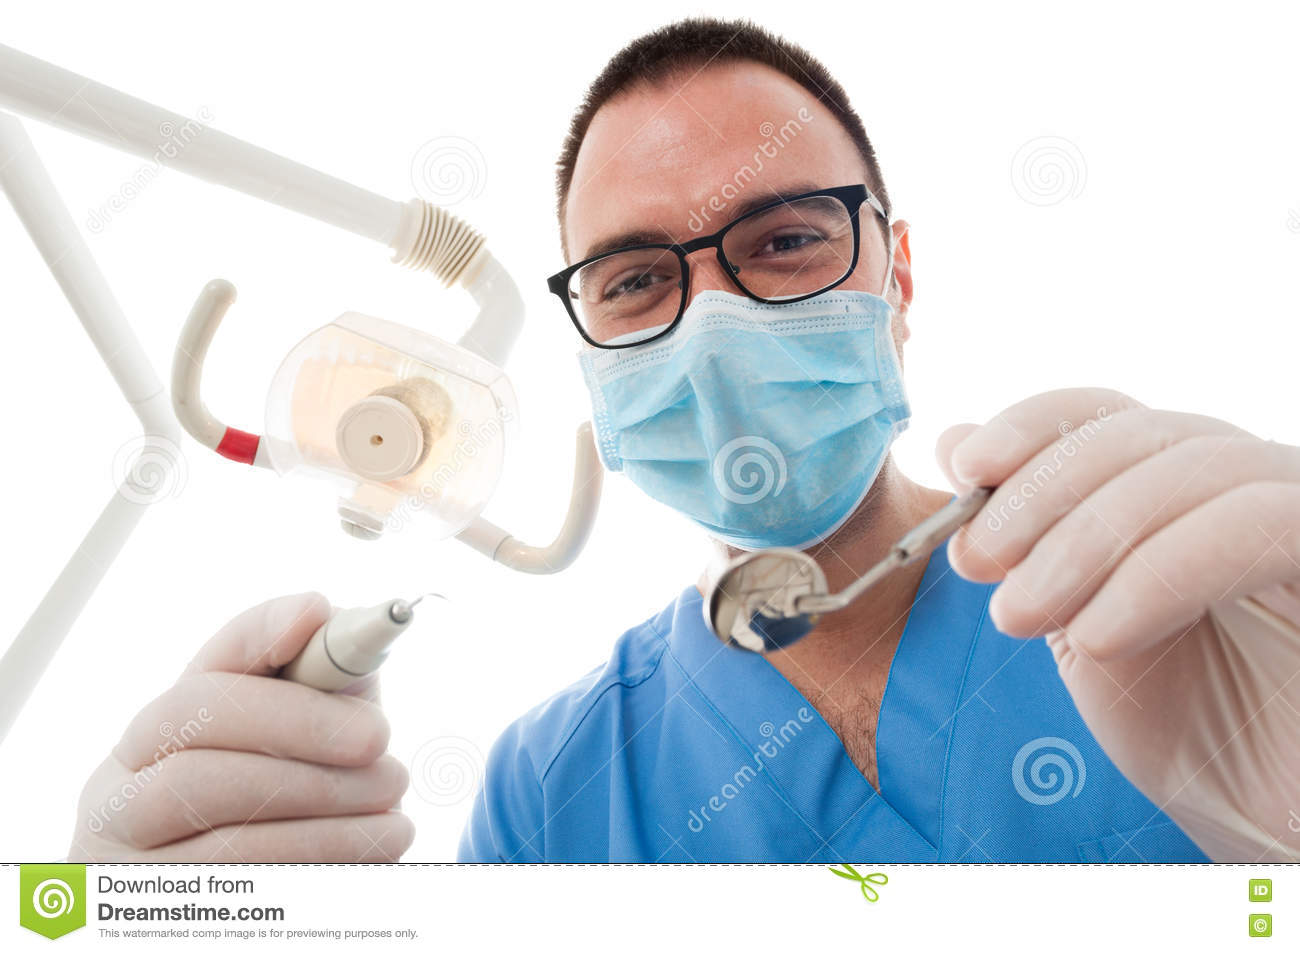mask: (573, 314, 947, 572)
